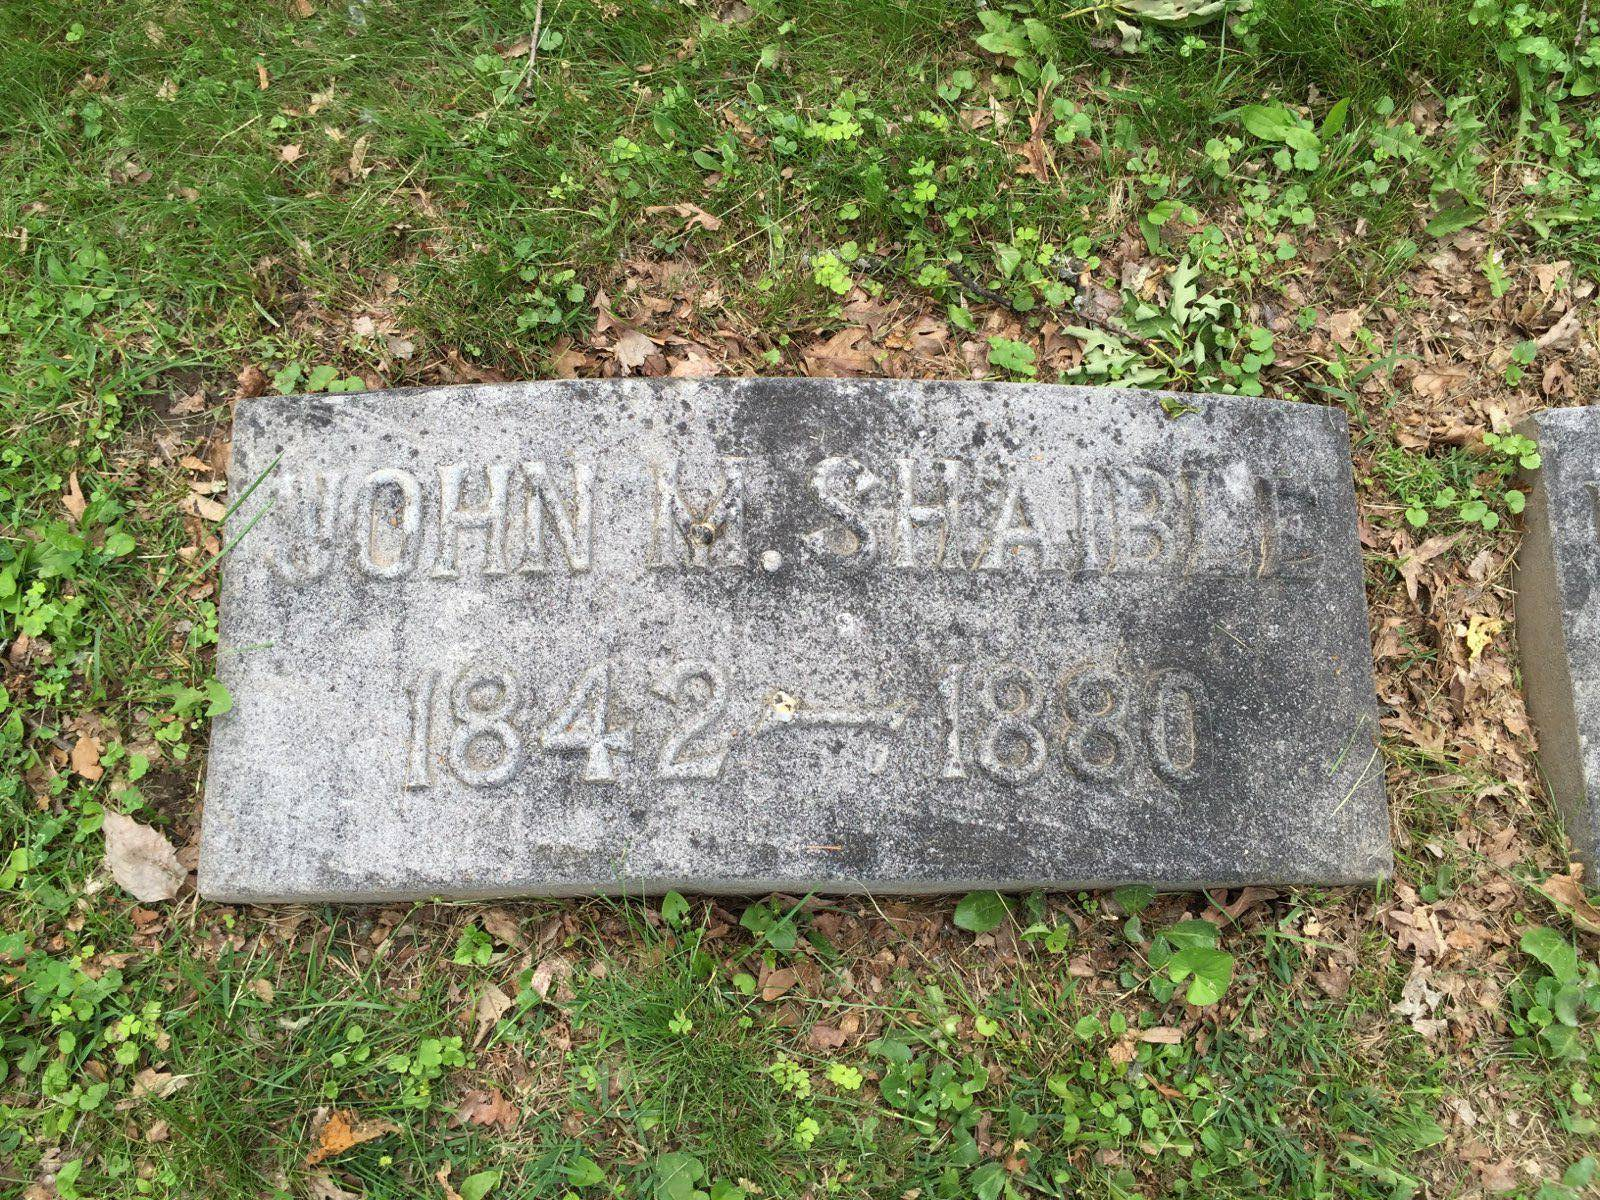flat: (186, 373, 1397, 904)
